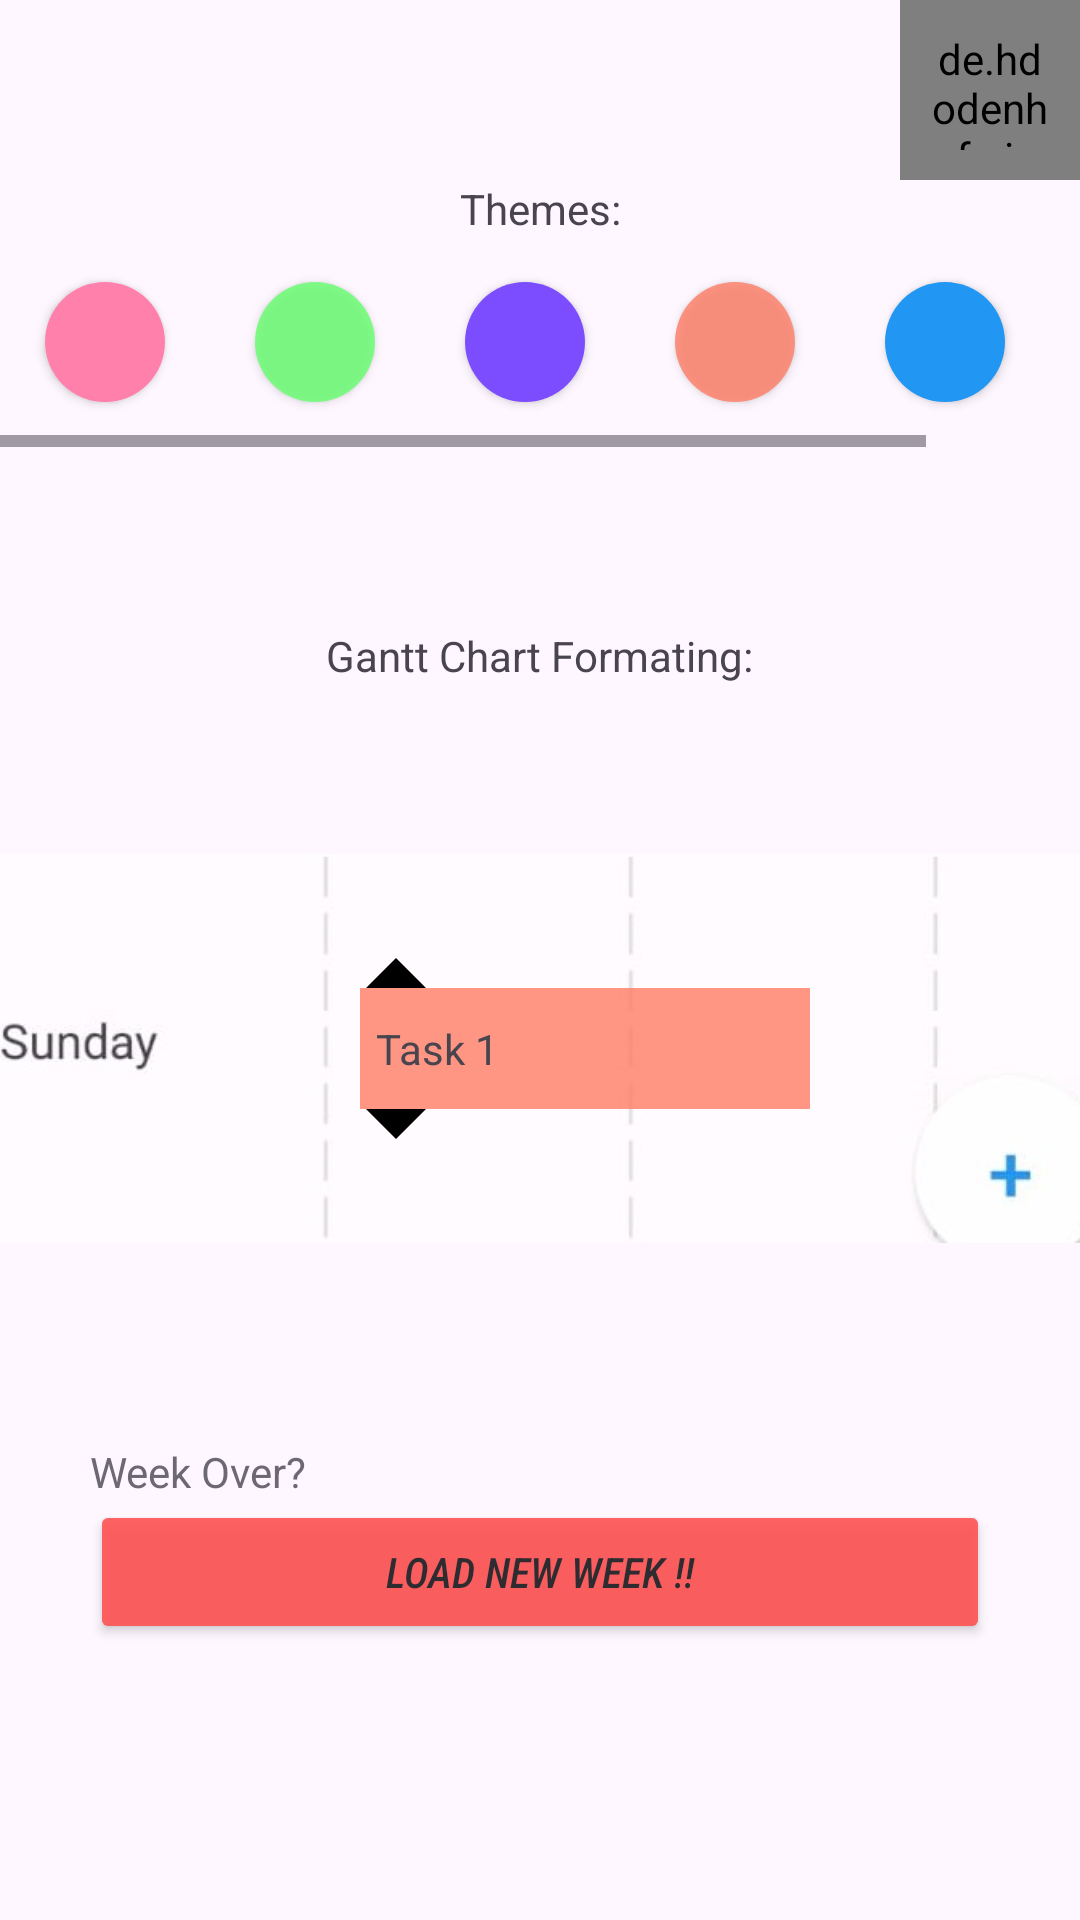

Where to tap for icons on this 1080px x 1920px app screen, as point (x, y):
arrow drop down: point (396, 1124)
arrow drop up: point (396, 973)
